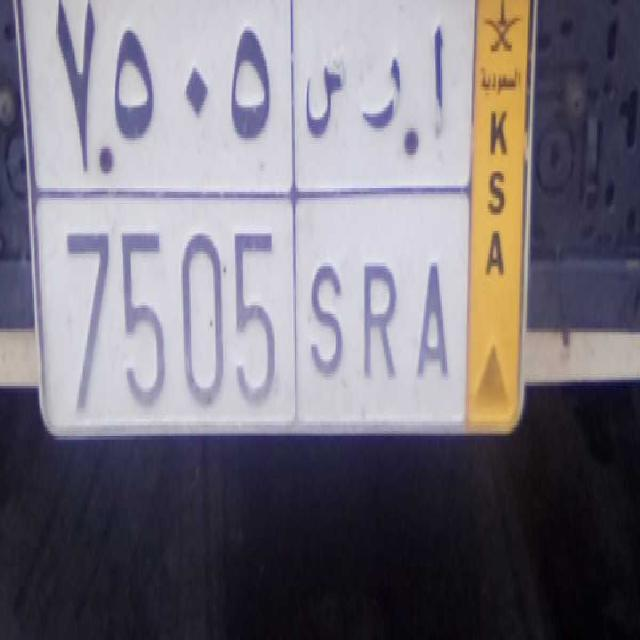license_plate: (31, 189, 468, 436)
